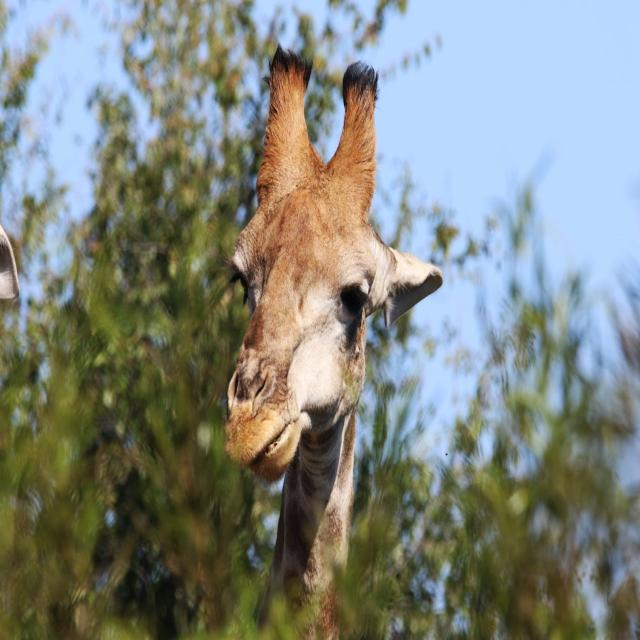Giraffe: (222, 45, 444, 640)
